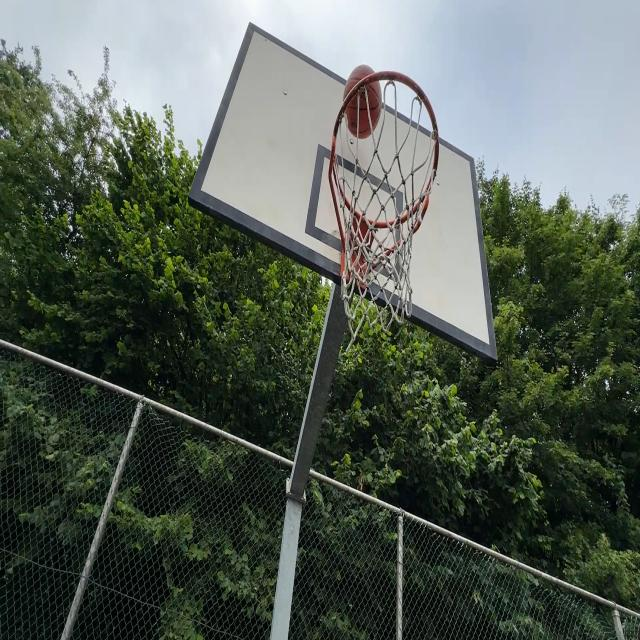Basketball: (343, 65, 381, 139)
